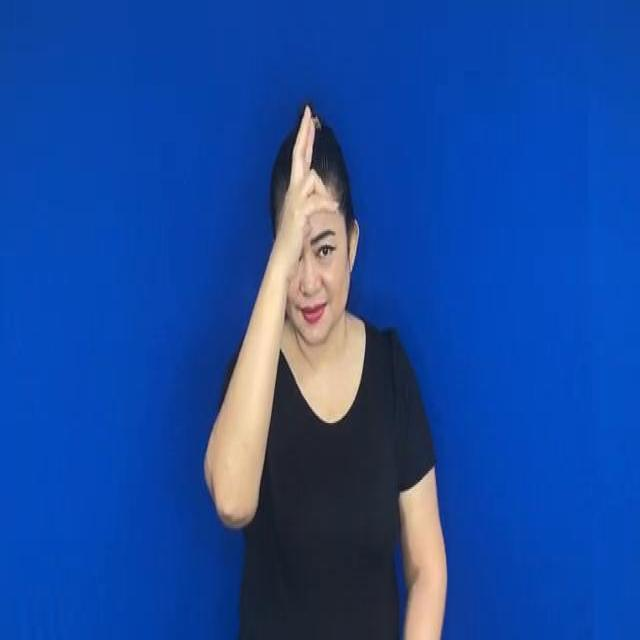chicken: (267, 100, 339, 264)
